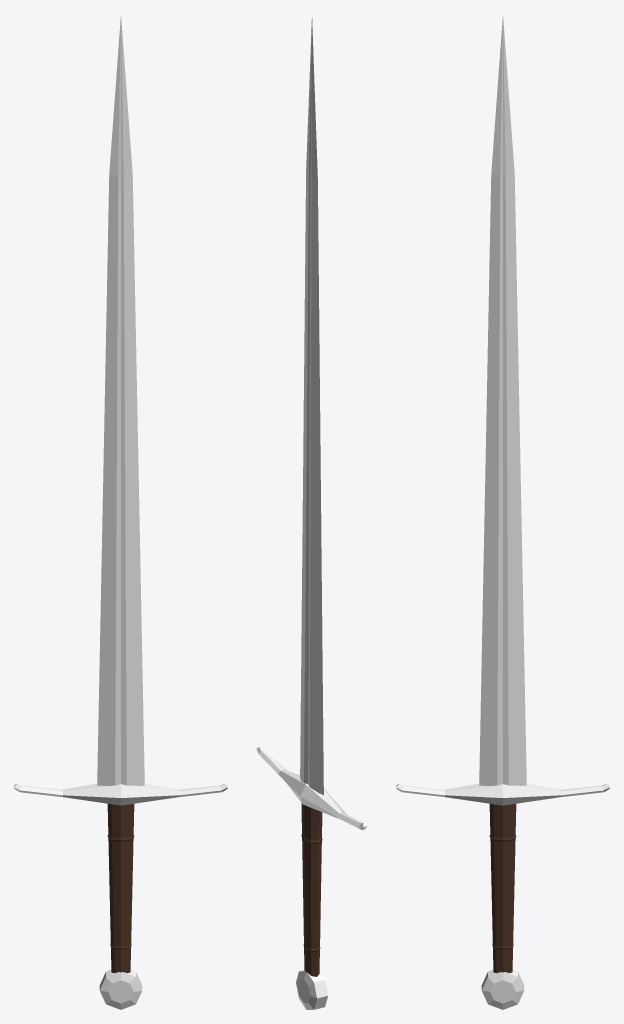
Rendered from longsword.glb.
3 views of the same model, side by side, from view 1: azimuth 90°, elevation 25°; view 2: azimuth 210°, elevation 25°; view 3: azimuth 270°, elevation 25° (orthographic).
Visible parts, largest first — view 1: Cube.001; view 2: Cube.001; view 3: Cube.001.
Part boxes in pixels (x1,y1,x2,y2): Cube.001: (14,16,227,1009); Cube.001: (256,18,367,1009); Cube.001: (396,16,609,1009).
Size of the model in its own units: 0.0283 by 1.15 by 0.2246.
2 materials, 1 textured.
